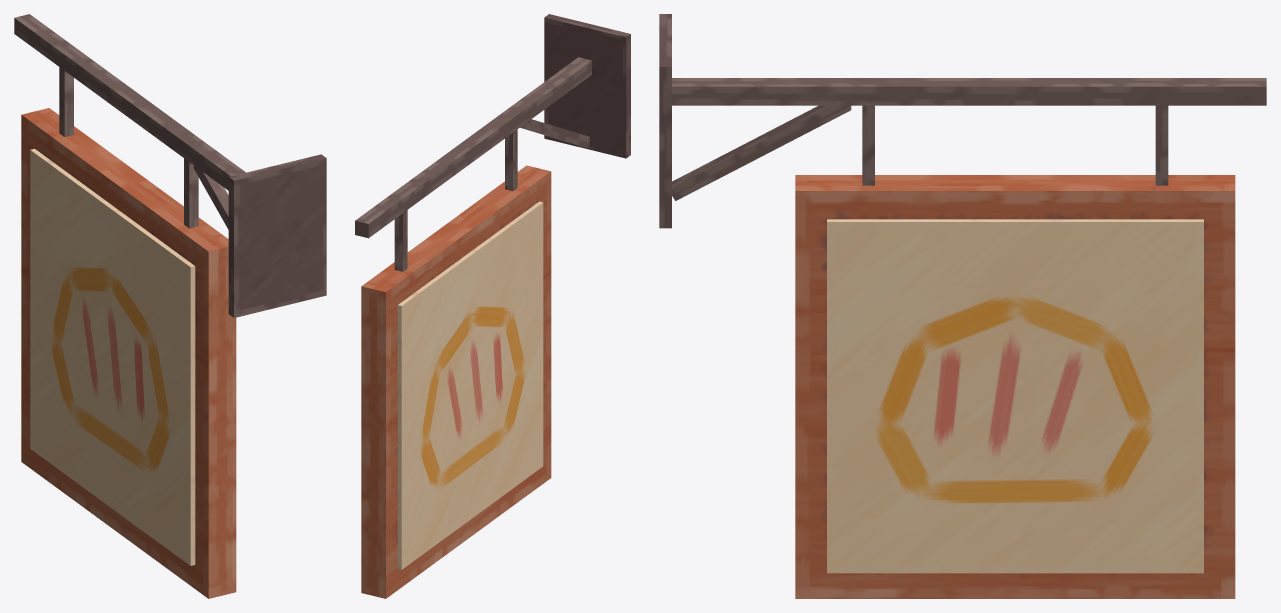
The model's file is sign_bread.bundle.fbx.
3 renders of one model, left to right at view 1: azimuth 30°, elevation 25°; view 2: azimuth 150°, elevation 25°; view 3: azimuth 270°, elevation 25°, orthographic. The views are drawn at different scales.
Parts seen in each view (by area): view 1: sign_bread, sign_bread_low; view 2: sign_bread, sign_bread_low; view 3: sign_bread, sign_bread_low.
Boxes of the visible parts, left/top/right/bottom form: sign_bread: left=14, top=14, right=326, bottom=592; sign_bread_low: left=21, top=108, right=236, bottom=598; sign_bread: left=355, top=14, right=630, bottom=593; sign_bread_low: left=361, top=165, right=551, bottom=598; sign_bread: left=659, top=14, right=1266, bottom=593; sign_bread_low: left=795, top=175, right=1235, bottom=598.
Bounding box in the file's own units: 0.6 × 2.9 × 2.9.
1 material, 1 textured.
